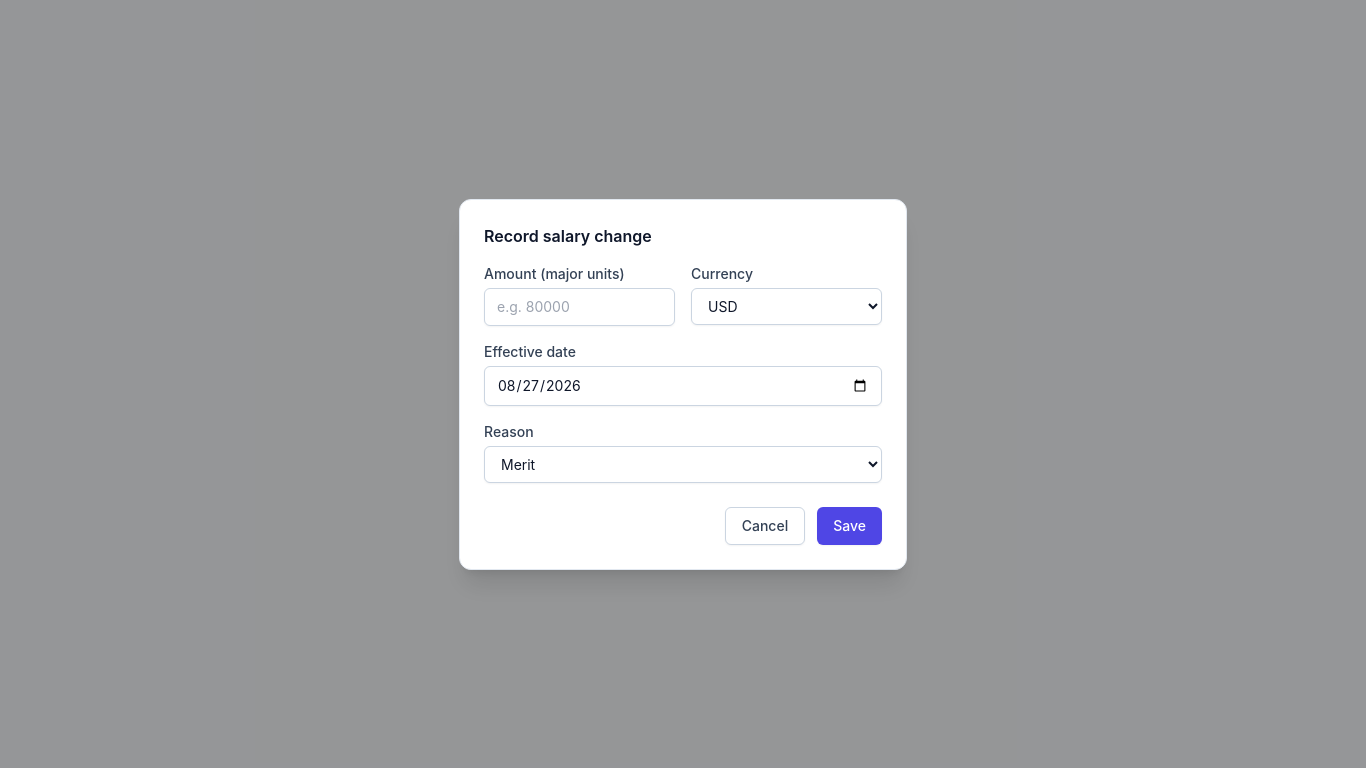
Test case: RaiseForm › disables save button while submitting
The image size is (1366, 768).
In the number field labelled "Amount (major units)": (580, 306) [484, 288, 675, 326], type "1000"
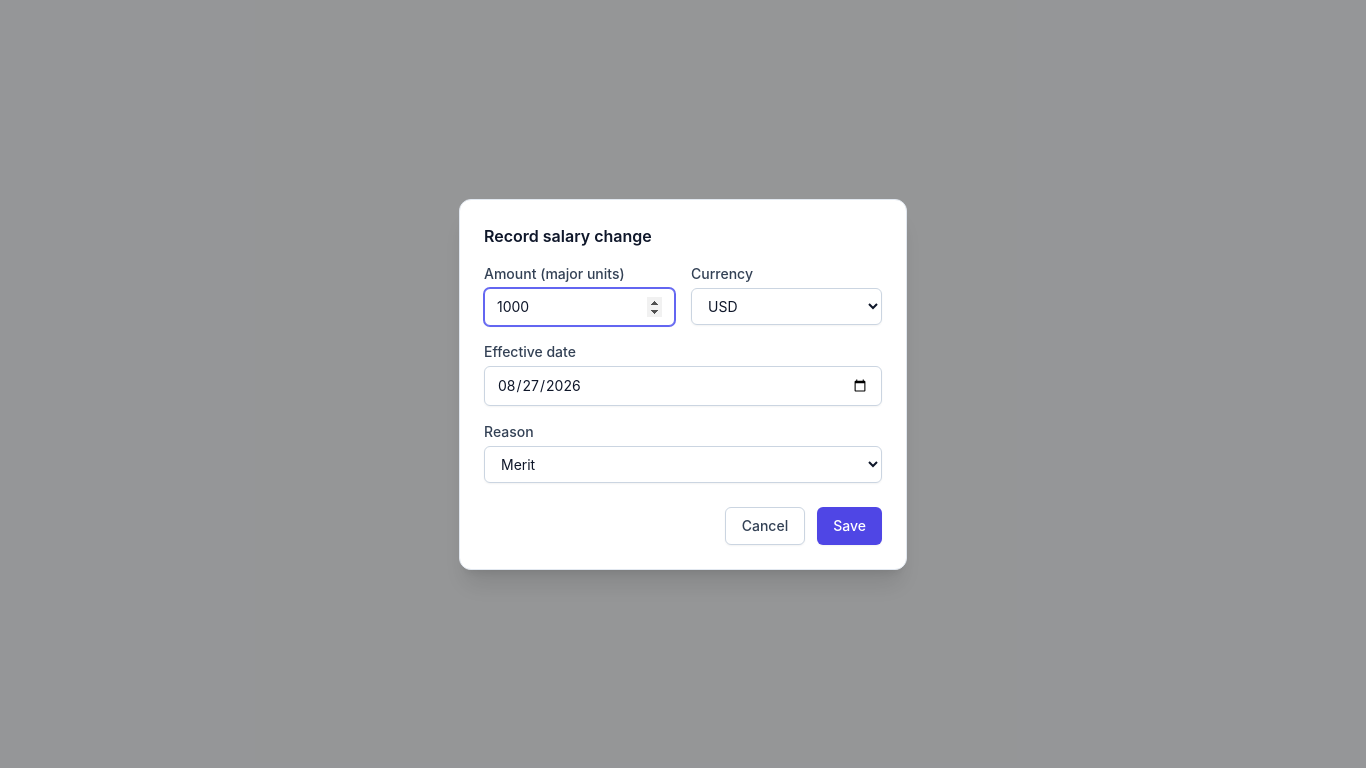
Click the button "Save": (850, 526) [817, 506, 882, 544]
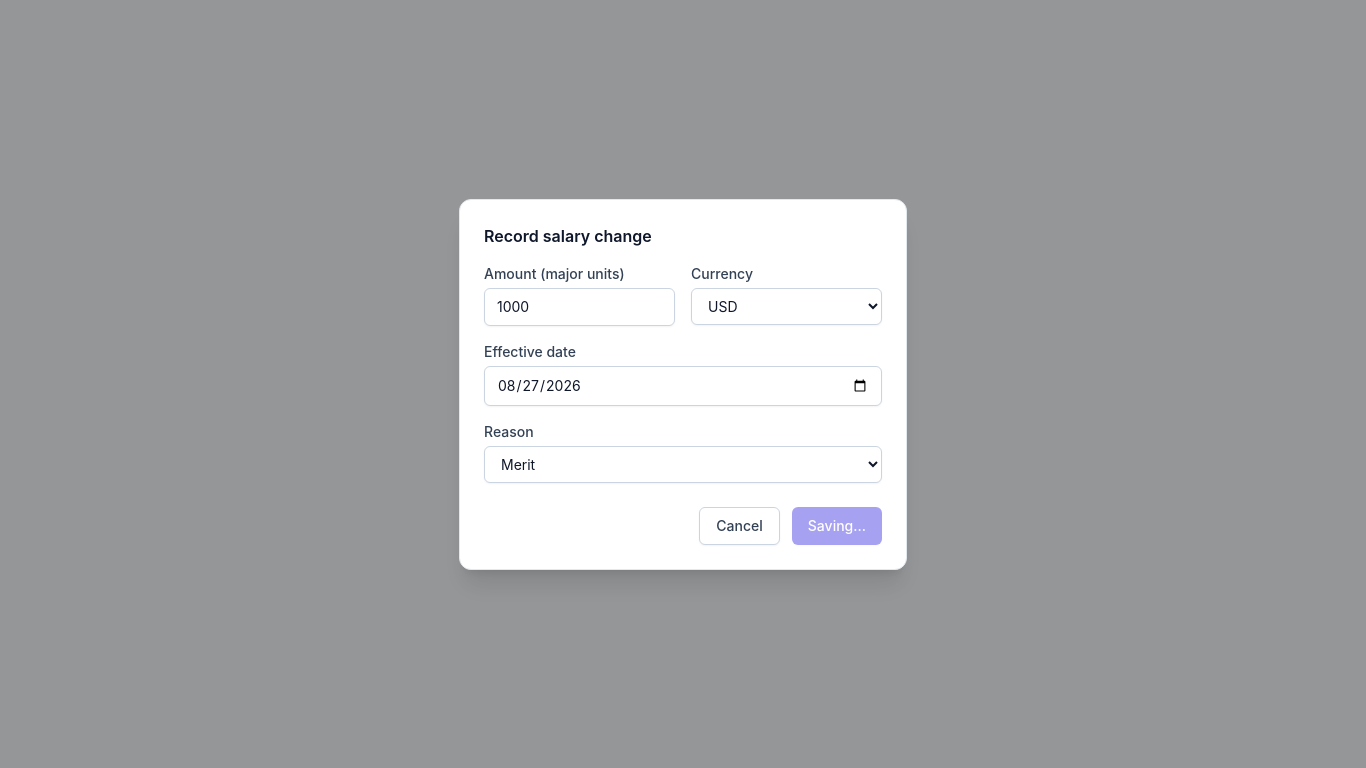
Expected: the button "Saving…" is disabled, [792, 506, 882, 544]
